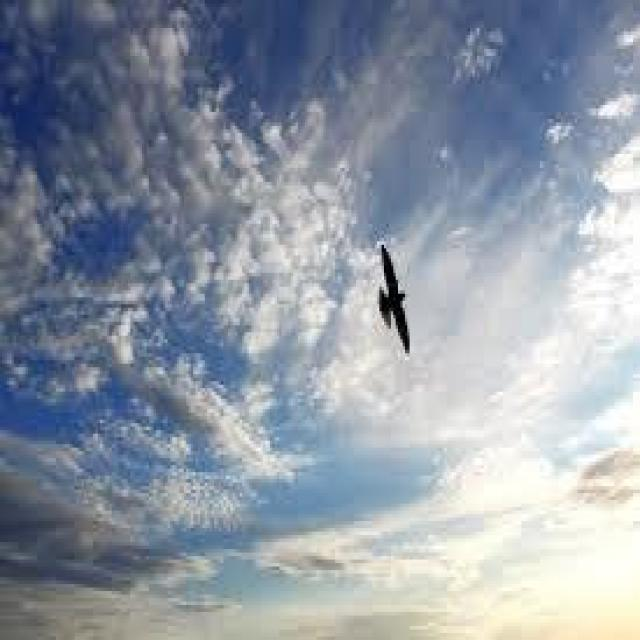bird: (368, 227, 419, 362)
